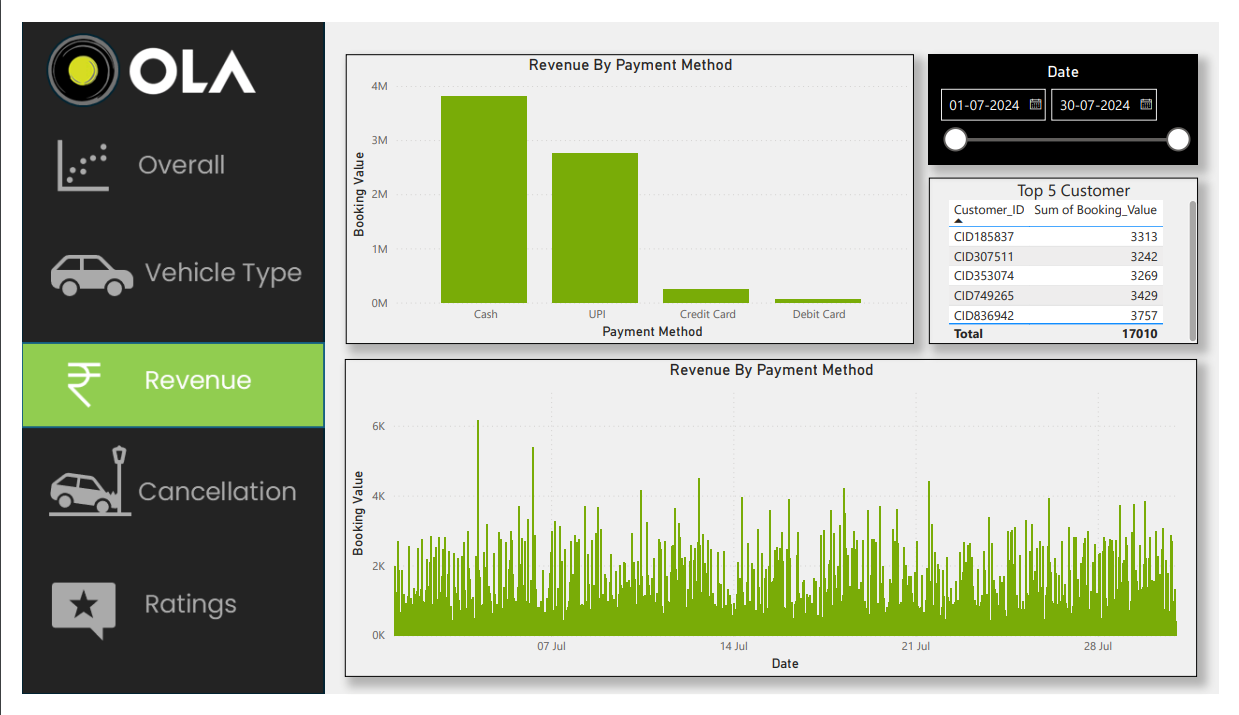

What the dashboard file says about the page in this screenshot:
{"tool":"powerbi","page":{"name":"Revenue","canvas":[1280,720],"ordinal":2},"visuals":[{"type":"actionButton","box":[0,223.3,325,91.7],"z":0},{"type":"actionButton","box":[0,445,325,91.7],"z":1000},{"type":"actionButton","box":[1.7,576.7,325,91.7],"z":2000},{"type":"actionButton","box":[0,106.7,325,91.7],"z":3000},{"type":"clusteredColumnChart","title":"Revenue By Payment Method","fields":{"Y":["Sum(July.Booking_Value)"],"Category":["July.Payment_Method"]},"box":[346,34,608,310],"z":4000},{"type":"clusteredColumnChart","title":"Revenue By Payment Method","fields":{"Y":["Sum(July.Booking_Value)"],"Category":["July.Date"]},"box":[345.2,360,912,339.7],"z":5000},{"type":"slicer","title":"Date","fields":{"Values":["July.Date"]},"box":[970,34,288,118],"z":6000},{"type":"tableEx","title":"Top 5 Customer","fields":{"Values":["July.Customer_ID","Sum(July.Booking_Value)"]},"box":[970,166,288,178],"z":7000}]}

Visuals, with their boxes in screenshot pixels (x1, y1, x2, y2), scaled from the page's 1280x720 canvas onto the 1239x715 screenshot:
actionButton: [left=0, top=222, right=315, bottom=313]
actionButton: [left=0, top=442, right=315, bottom=533]
actionButton: [left=2, top=573, right=316, bottom=664]
actionButton: [left=0, top=106, right=315, bottom=197]
"Revenue By Payment Method" clusteredColumnChart: [left=335, top=34, right=923, bottom=342]
"Revenue By Payment Method" clusteredColumnChart: [left=334, top=358, right=1217, bottom=695]
"Date" slicer: [left=939, top=34, right=1218, bottom=151]
"Top 5 Customer" tableEx: [left=939, top=165, right=1218, bottom=342]
